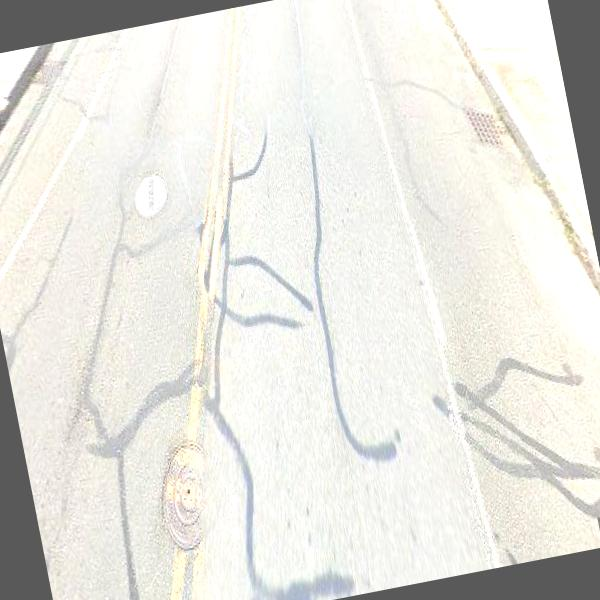manhole: (141, 427, 227, 555), (126, 167, 180, 226)
